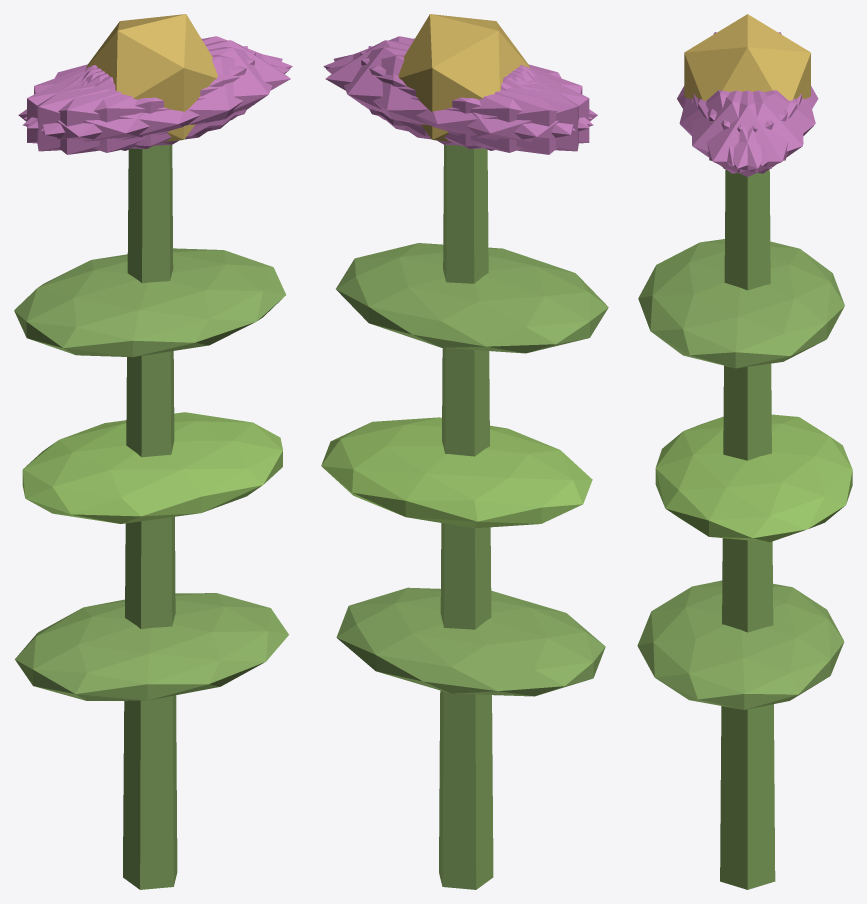
File: hibiscus-archeri.glb
3 views of the same model, side by side, from view 1: azimuth 30°, elevation 25°; view 2: azimuth 150°, elevation 25°; view 3: azimuth 270°, elevation 25° (orthographic).
Parts seen in each view (by area): view 1: stem, leaf2, leaf0, leaf1, center, petal1, petal6, petal2, petal5, petal7, petal0, petal4 (+2 smaller); view 2: stem, leaf1, leaf2, leaf0, center, petal8, petal3, petal7, petal4, petal2, petal0, petal5 (+2 smaller); view 3: stem, leaf2, leaf1, leaf0, center, petal0, petal5, petal4, petal8, petal1.
Boxes of the visible parts, x1=… form: stem: x1=123, y1=144, x2=177, y2=889; leaf2: x1=14, y1=248, x2=285, y2=357; leaf0: x1=15, y1=593, x2=288, y2=700; leaf1: x1=22, y1=412, x2=282, y2=523; center: x1=86, y1=14, x2=217, y2=141; petal1: x1=22, y1=54, x2=290, y2=152; petal6: x1=18, y1=66, x2=212, y2=154; petal2: x1=37, y1=46, x2=247, y2=151; petal5: x1=41, y1=47, x2=282, y2=146; petal7: x1=27, y1=51, x2=255, y2=149; petal0: x1=86, y1=40, x2=290, y2=136; petal4: x1=24, y1=36, x2=292, y2=128; stem: x1=439, y1=144, x2=493, y2=889; leaf1: x1=321, y1=417, x2=592, y2=528; leaf2: x1=336, y1=243, x2=608, y2=353; leaf0: x1=336, y1=587, x2=605, y2=696; center: x1=398, y1=14, x2=530, y2=141; petal8: x1=326, y1=54, x2=593, y2=152; petal3: x1=404, y1=66, x2=597, y2=154; petal7: x1=368, y1=46, x2=578, y2=151; petal4: x1=333, y1=47, x2=575, y2=146; petal2: x1=360, y1=51, x2=589, y2=149; petal0: x1=325, y1=40, x2=530, y2=136; petal5: x1=323, y1=36, x2=592, y2=128; stem: x1=720, y1=169, x2=775, y2=889; leaf2: x1=638, y1=239, x2=844, y2=368; leaf1: x1=655, y1=414, x2=852, y2=542; leaf0: x1=637, y1=580, x2=844, y2=709; center: x1=684, y1=14, x2=810, y2=100; petal0: x1=693, y1=90, x2=801, y2=176; petal5: x1=691, y1=90, x2=797, y2=173; petal4: x1=698, y1=90, x2=803, y2=173; petal8: x1=707, y1=90, x2=815, y2=166; petal1: x1=679, y1=90, x2=787, y2=166.
Size of the model in its own units: 0.1452 by 0.451 by 0.1038.
